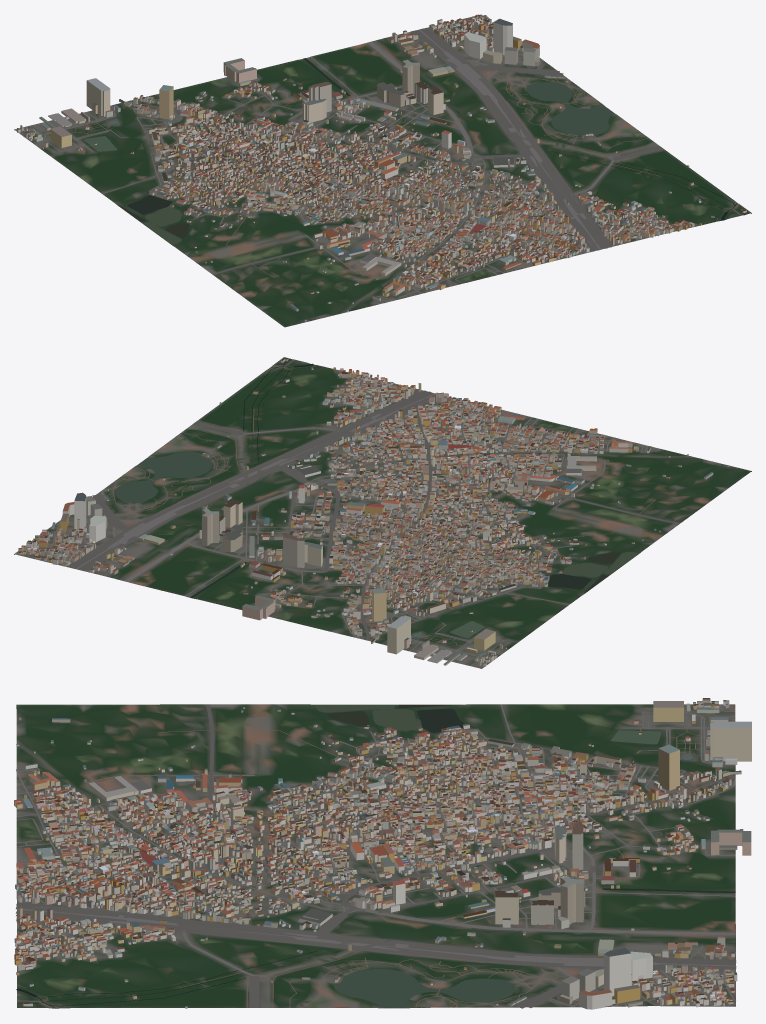
3 renders of one model, top to bottom at view 1: azimuth 30°, elevation 25°; view 2: azimuth 150°, elevation 25°; view 3: azimuth 270°, elevation 25°, orthographic. The views are drawn at different scales.
Parts seen in each view (by area): view 1: ground, buildings, roads, water; view 2: ground, buildings, roads, water; view 3: ground, buildings, roads, water.
Part boxes in pixels (x1,y1,x2,y2): ground: [14, 14, 751, 327]; buildings: [17, 14, 746, 321]; roads: [19, 16, 741, 302]; water: [84, 58, 745, 244]; ground: [14, 357, 751, 668]; buildings: [18, 358, 729, 666]; roads: [22, 359, 680, 666]; water: [115, 358, 638, 637]; ground: [16, 704, 735, 1008]; buildings: [14, 698, 751, 1009]; roads: [15, 704, 736, 1008]; water: [16, 704, 735, 1008].
Bounding box in the file's own units: 1410 × 92.11 × 1439.
